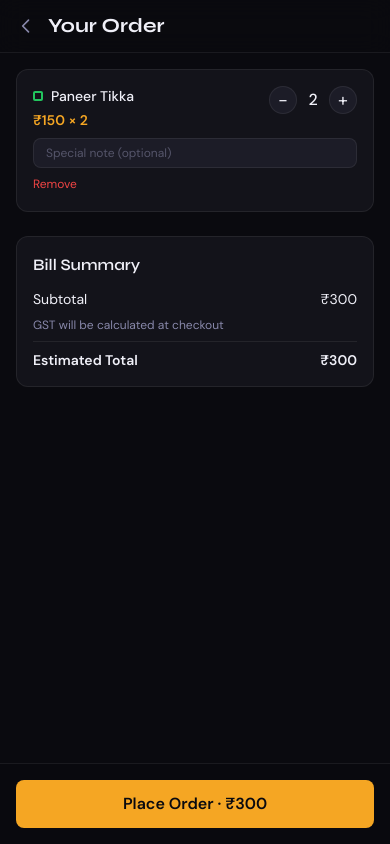
Scenario: PF02 - Cart › On API error show error toast
The width and height of the screenshot is (390, 844).
Click the button "Place Order · ₹300".
click(195, 804)  # box left=16, top=780, right=374, bottom=828
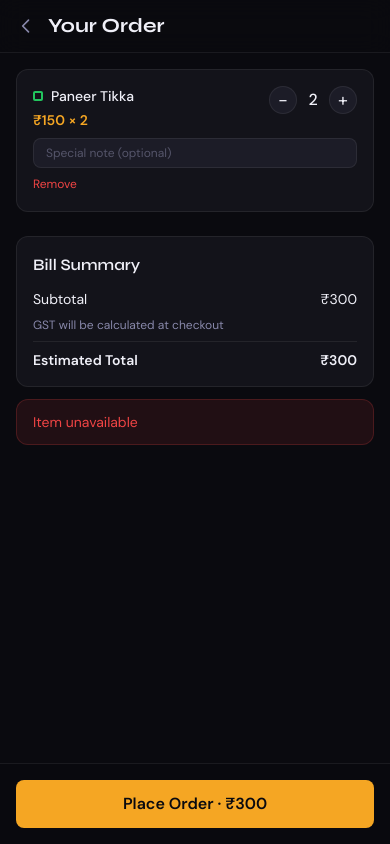
expect the text "Item unavailable" is shown: met, box left=33, top=413, right=138, bottom=431
